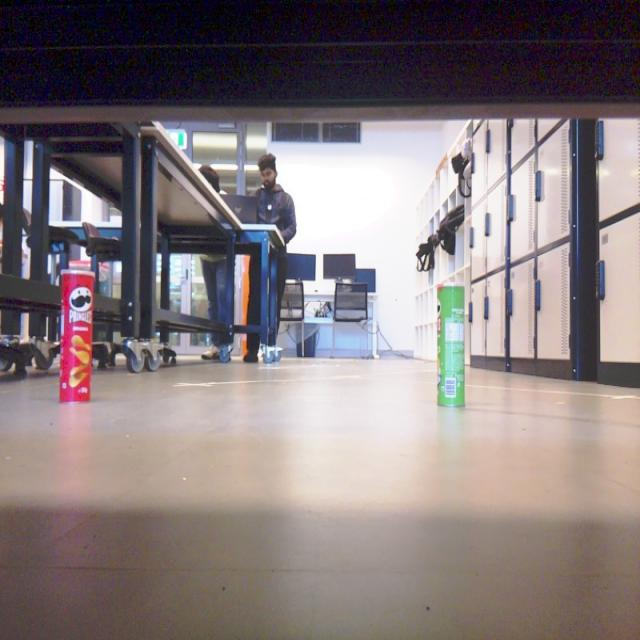greenpringles: (431, 275, 477, 428)
redpringles: (51, 241, 100, 417)
